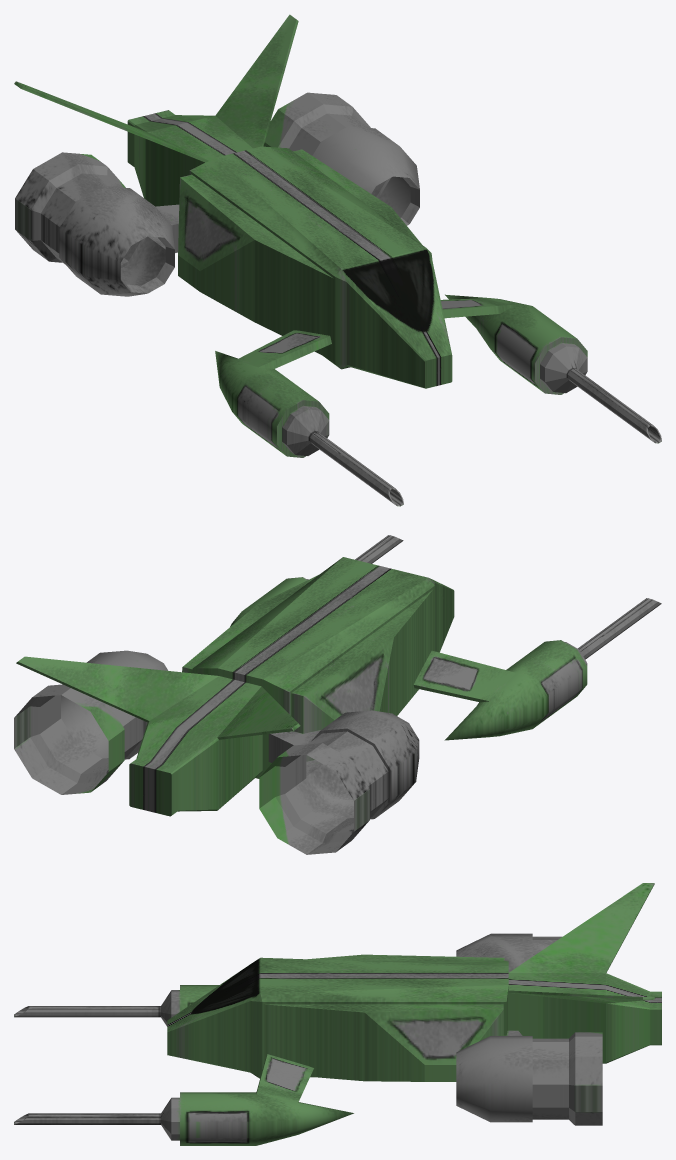
File: frogfish team 1.FBX
The picture shows the model from 3 angles, top to bottom: view 1: azimuth 30°, elevation 25°; view 2: azimuth 150°, elevation 25°; view 3: azimuth 270°, elevation 25°; orthographic projection. The views are drawn at different scales.
Visible parts, largest first — view 1: Box001; view 2: Box001; view 3: Box001.
Boxes of the visible parts, x1,y1,x2,y2 form: Box001: (14, 14, 661, 506); Box001: (14, 535, 661, 854); Box001: (14, 883, 661, 1145).
Bounding box in the file's own units: 81.51 × 40.22 × 158.
Materials: 1 (1 with a texture image).
